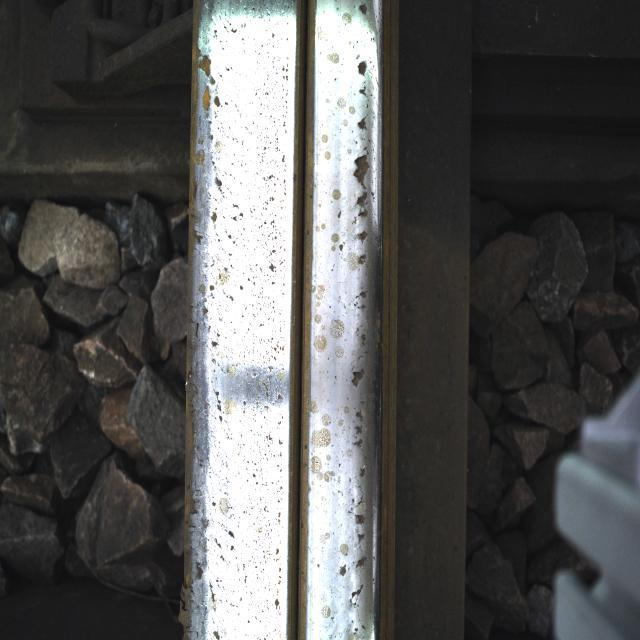scar: (195, 25, 264, 593), (331, 39, 385, 609)
